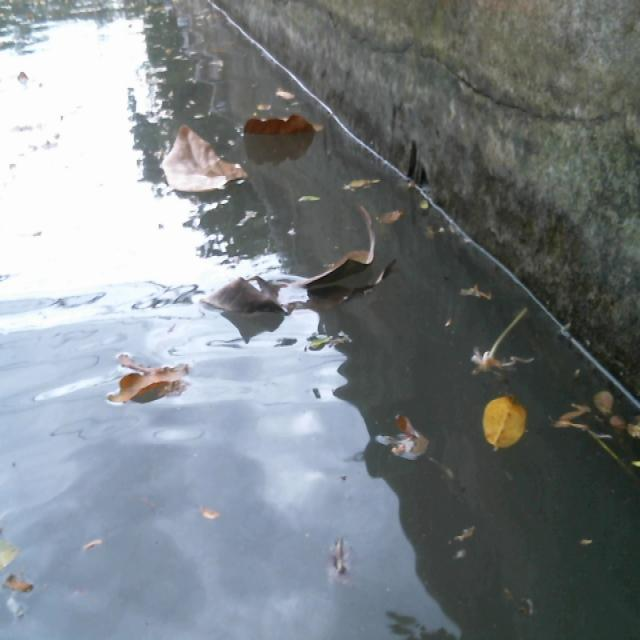Big-leaf: (195, 205, 386, 332), (100, 327, 201, 434), (149, 126, 250, 204), (238, 109, 328, 147)
Small-leaf: (380, 409, 452, 506), (466, 381, 537, 446), (312, 524, 358, 607), (452, 276, 502, 313), (371, 201, 414, 233), (0, 564, 35, 597), (342, 172, 396, 191), (266, 83, 305, 105), (0, 530, 22, 564), (419, 189, 437, 221), (587, 384, 612, 405), (609, 413, 627, 441), (299, 191, 322, 205), (628, 428, 640, 451)
